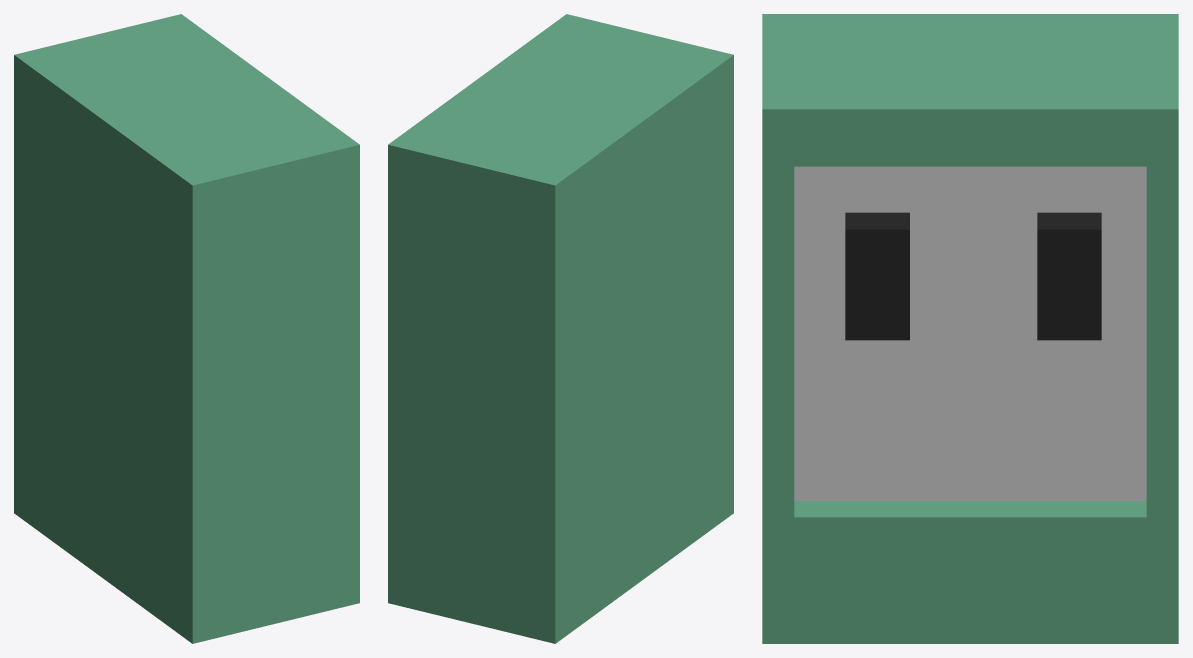
File: Kolby.fbx
3 views of the same model, side by side, from view 1: azimuth 30°, elevation 25°; view 2: azimuth 150°, elevation 25°; view 3: azimuth 270°, elevation 25° (orthographic). The views are drawn at different scales.
Parts seen in each view (by area): view 1: Kolby; view 2: Kolby; view 3: Kolby, MataKolby, MataKolby2.
Boxes of the visible parts, x1,y1,x2,y2 form: Kolby: [14, 14, 359, 643]; Kolby: [388, 14, 733, 643]; Kolby: [762, 14, 1178, 643]; MataKolby: [845, 212, 909, 340]; MataKolby2: [1037, 212, 1101, 340].
Size of the model in its own units: 65.4 by 170 by 120.
